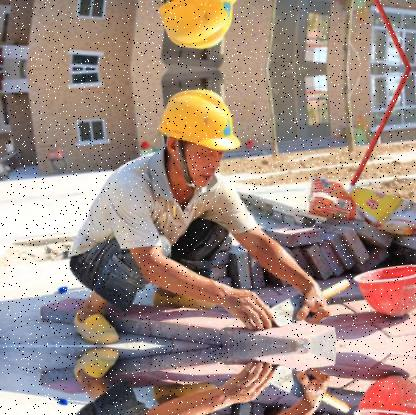helmet: (152, 79, 249, 192), (152, 0, 250, 58)
